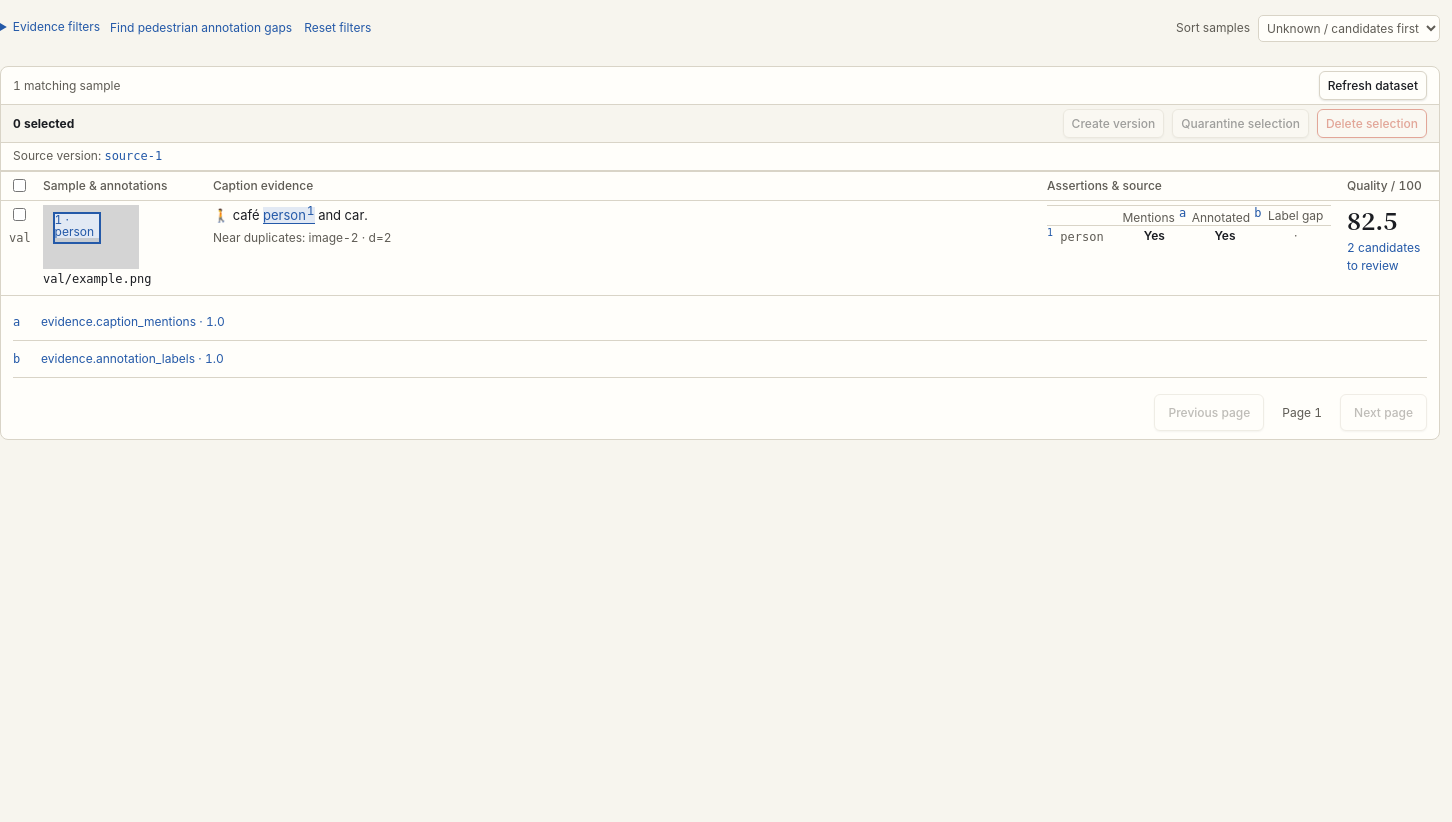
does not prepare or execute quarantine_files during composition
Click the checkbox named "Select val/example.png" at (20, 215), box [13, 208, 26, 221]
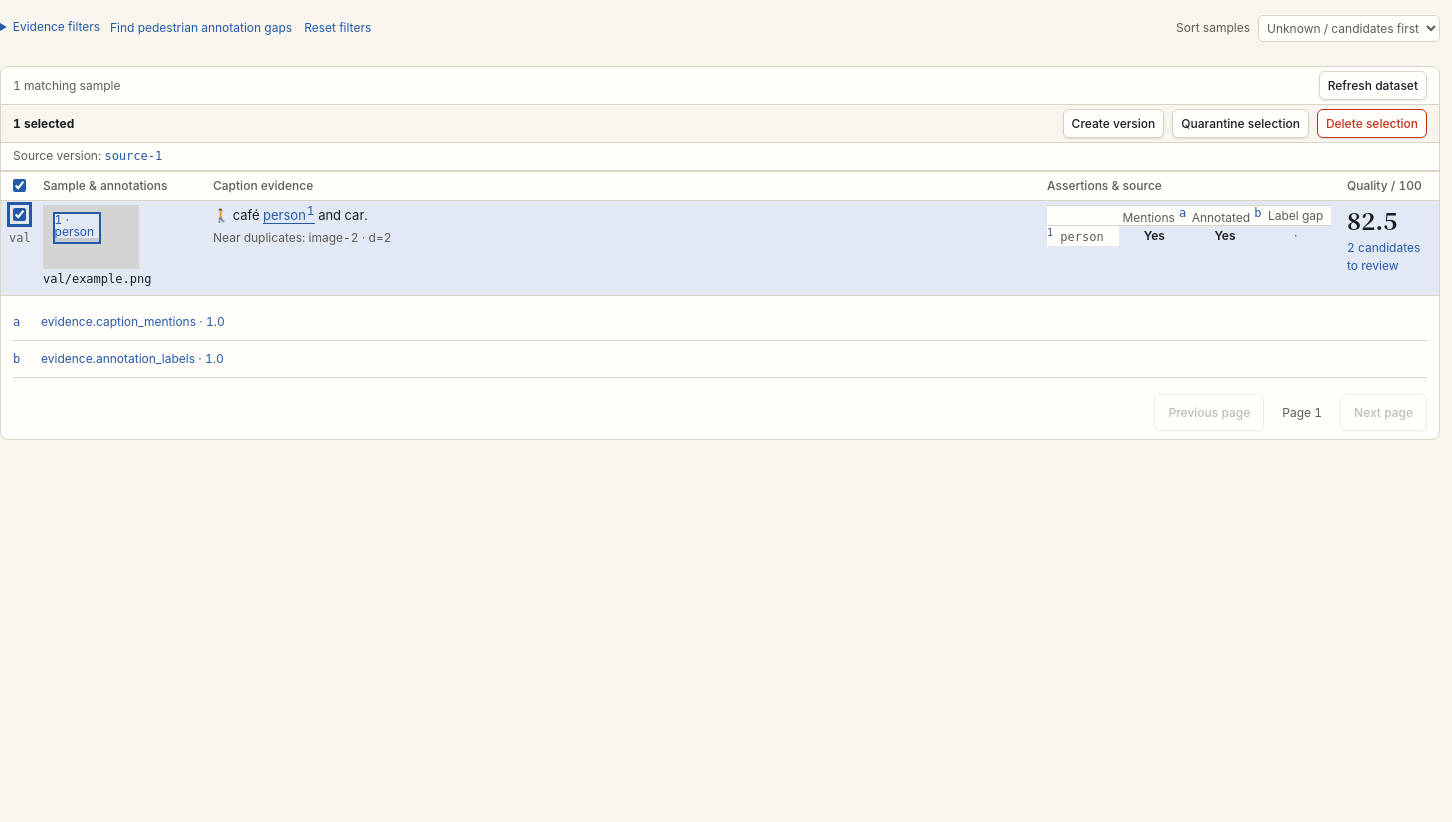
Click the button "Quarantine selection" at (1241, 124), box [1172, 109, 1309, 138]
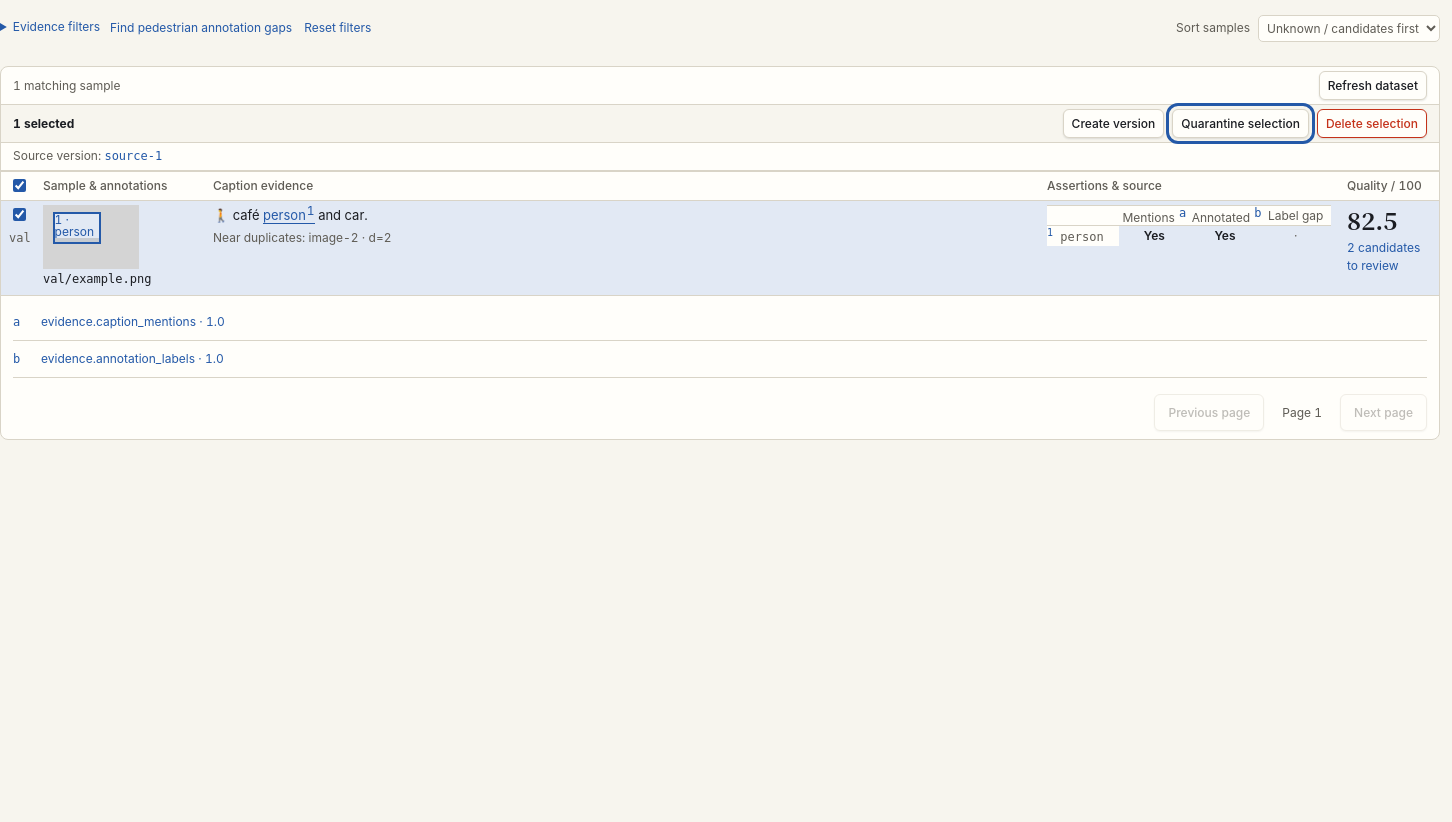
Press Enter in the button "Quarantine selection", box [1172, 109, 1309, 138]
Press Space in the button "Quarantine selection", box [1172, 109, 1309, 138]
Click the button "Quarantine selection" at (1241, 124), box [1172, 109, 1309, 138]
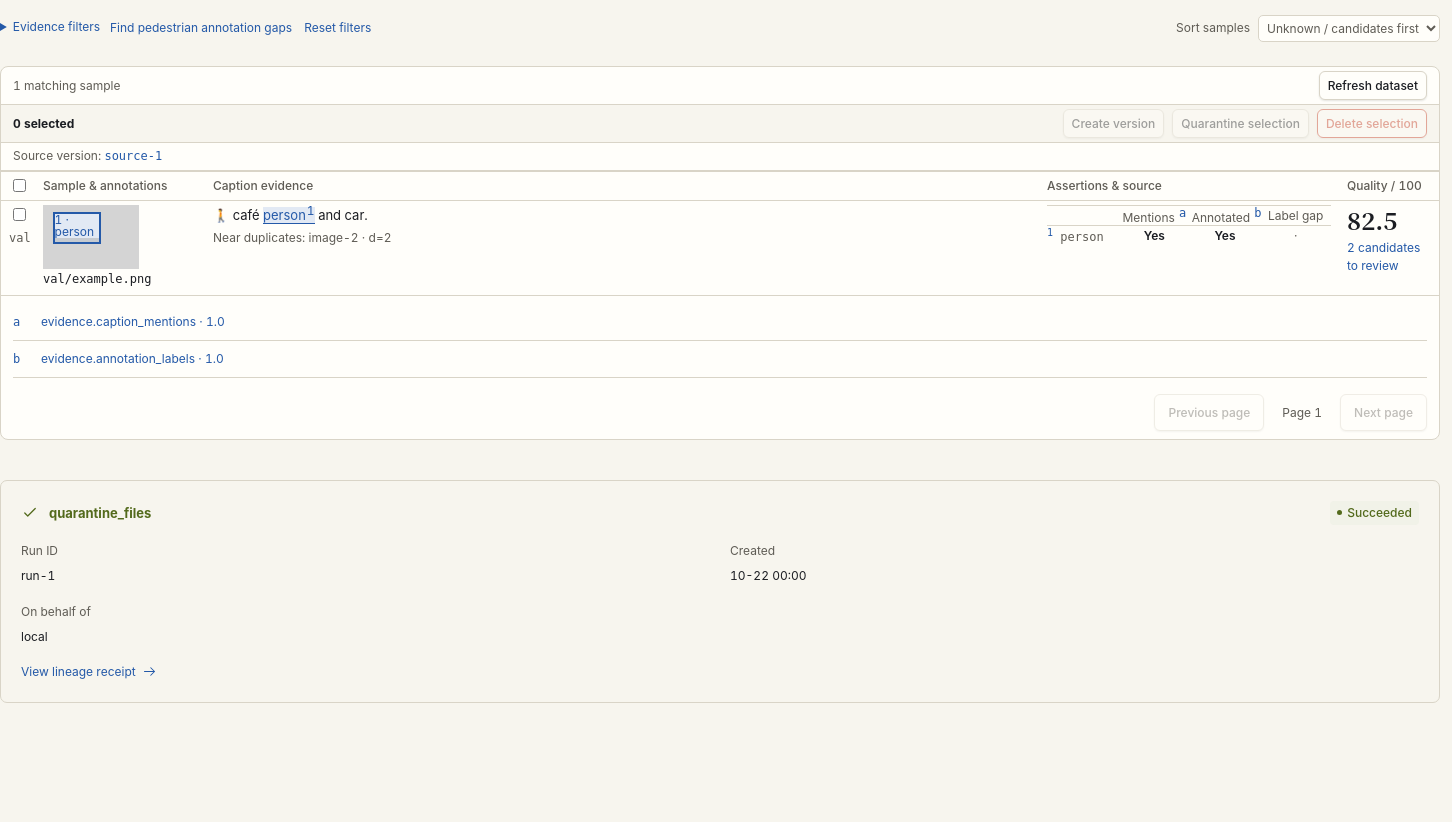
Expected: the element named "Receipt" is shown, [0, 480, 1440, 702]
